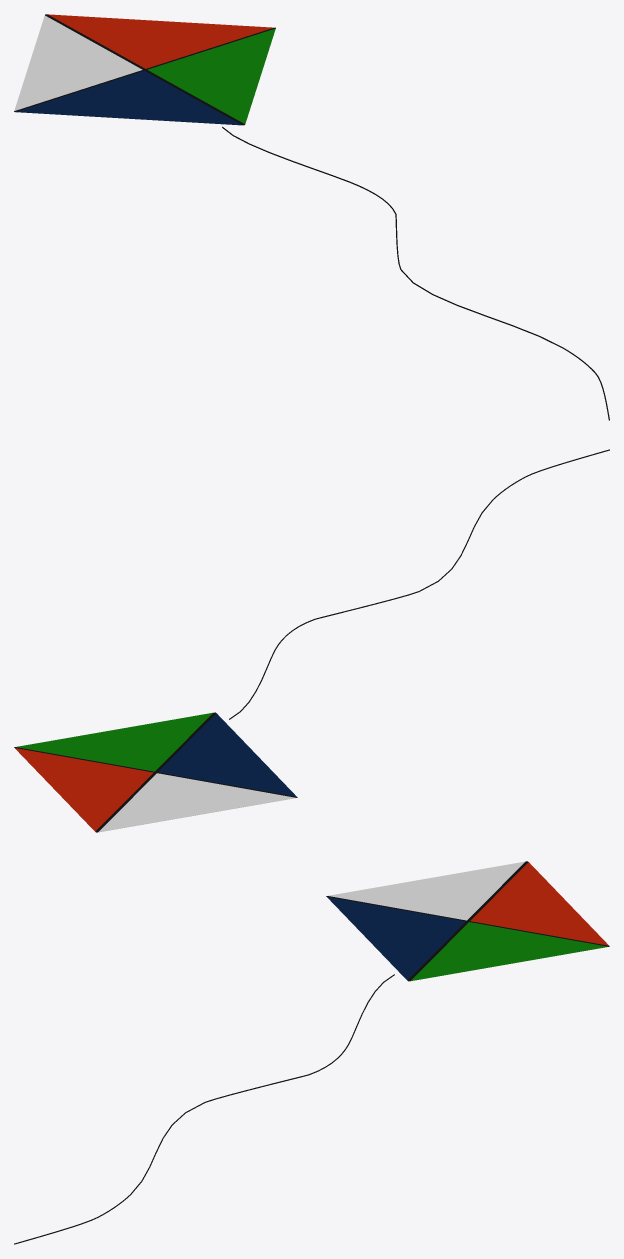
File: Kite.fbx
3 views of the same model, one above another, from view 1: azimuth 30°, elevation 25°; view 2: azimuth 150°, elevation 25°; view 3: azimuth 330°, elevation 25° (orthographic). The views are drawn at different scales.
Visible parts, largest first — view 1: Object001, Plane001, Line001; view 2: Object001, Plane001, Line001; view 3: Object001, Plane001, Line001.
Boxes of the visible parts, x1=… form: Object001: x1=14, y1=14, x2=275, y2=125; Plane001: x1=14, y1=14, x2=275, y2=125; Line001: x1=222, y1=126, x2=609, y2=420; Object001: x1=15, y1=712, x2=296, y2=832; Plane001: x1=14, y1=712, x2=297, y2=832; Line001: x1=229, y1=449, x2=609, y2=719; Object001: x1=327, y1=861, x2=608, y2=981; Plane001: x1=326, y1=861, x2=609, y2=981; Line001: x1=14, y1=974, x2=394, y2=1244.
Size of the model in its own units: 0.2788 by 0.00107 by 0.9504.
